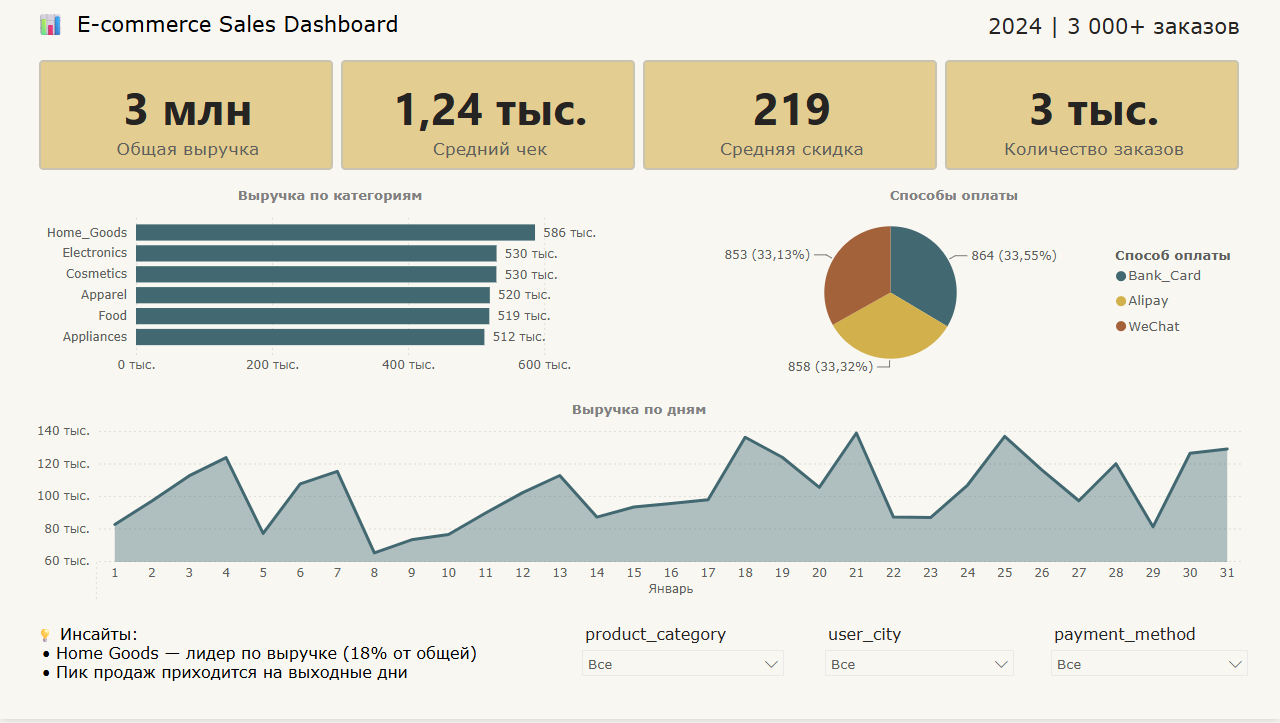

The dashboard page shown, as its layout file describes it:
{"tool":"powerbi","page":{"name":"Анализ продаж (E‑commerce)","canvas":[1280,720],"ordinal":0},"visuals":[{"type":"cardVisual","fields":{"Data":["DAX.Общая выручка","DAX.Средний чек","DAX.Cредняя скидка","DAX.Количество заказов"]},"box":[22,44,1236,144],"z":0},{"type":"barChart","title":"Выручка по категориям","fields":{"Y":["DAX.Общая выручка"],"Category":["orders_clean.product_category"]},"box":[31,188,598,195],"z":1000},{"type":"pieChart","title":"Способы оплаты","fields":{"Y":["DAX.Количество заказов"],"Category":["orders_clean.payment_method"]},"box":[661,188,586,195],"z":2000},{"type":"lineChart","title":"Выручка по дням","fields":{"Y":["DAX.Общая выручка"],"Category":["orders_clean.order_time.Изменение.Иерархия дат.Месяц","orders_clean.order_time.Изменение.Иерархия дат.День"]},"box":[31,402,1216,209],"z":3000},{"type":"textbox","box":[31,5,541,39],"z":4000},{"type":"textbox","box":[983,9,264,35],"z":5000},{"type":"textbox","box":[31,620,506,88],"z":5001},{"type":"slicer","title":"Категория","fields":{"Values":["orders_clean.product_category"]},"box":[572,620,222,68],"z":5002},{"type":"slicer","title":"Категория","fields":{"Values":["user_clean.user_city"]},"box":[815,620,209,68],"z":5003},{"type":"slicer","title":"Категория","fields":{"Values":["orders_clean.payment_method"]},"box":[1041,620,217,68],"z":5004}]}

Visuals, with their boxes in screenshot pixels (x1, y1, x2, y2), scaled from the page's 1280x720 canvas onto the 1280x723 screenshot:
cardVisual - DAX.Общая выручка x DAX.Средний чек: 22, 44, 1258, 189
"Выручка по категориям" barChart: 31, 189, 629, 385
"Способы оплаты" pieChart: 661, 189, 1247, 385
"Выручка по дням" lineChart: 31, 404, 1247, 614
textbox: 31, 5, 572, 44
textbox: 983, 9, 1247, 44
textbox: 31, 623, 537, 711
"Категория" slicer: 572, 623, 794, 691
"Категория" slicer: 815, 623, 1024, 691
"Категория" slicer: 1041, 623, 1258, 691
